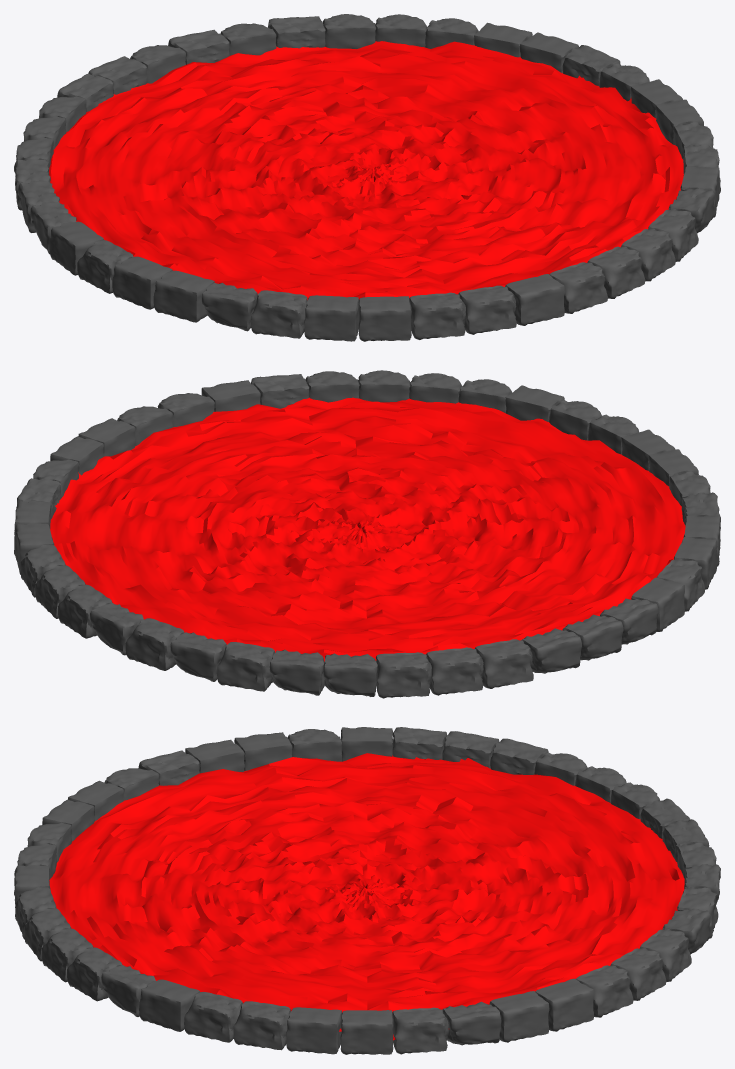
Rendered from portal2.fbx.
The picture shows the model from 3 angles, top to bottom: view 1: azimuth 30°, elevation 25°; view 2: azimuth 150°, elevation 25°; view 3: azimuth 270°, elevation 25°; orthographic projection.
Visible parts, largest first — view 1: Disc, Cube_24, Cube_1_22, Cube_23, Cube_1_25, Cube_1_21, Cube_27, Cube_20, Cube_28, Cube_2_26, Cube_1_19, Cube_1_18 (+29 smaller); view 2: Disc, Cube_1_36, Cube_1_35, Cube_1_39, Cube_1_34, Cube_2_38, Cube_2_37, Cube_1_1, Cube_2_33, Cube_2_0, Cube_2_32, Cube_2_2 (+29 smaller); view 3: Disc, Cube_11, Cube_1_9, Cube_10, Cube_1_12, Cube_7, Cube_1_13, Cube_14, Cube_6, Cube_2_8, Cube_1_5, Cube_1_4 (+29 smaller).
Boxes of the visible parts, x1,y1,x2,y2 form: Disc: [49, 41, 683, 299]; Cube_24: [304, 295, 358, 341]; Cube_1_22: [409, 292, 465, 339]; Cube_23: [358, 296, 411, 341]; Cube_1_25: [251, 290, 307, 338]; Cube_1_21: [458, 285, 516, 334]; Cube_27: [153, 270, 214, 322]; Cube_20: [505, 274, 564, 325]; Cube_28: [112, 256, 172, 309]; Cube_2_26: [201, 282, 257, 331]; Cube_1_19: [549, 262, 607, 313]; Cube_1_18: [587, 246, 645, 298]; Disc: [50, 397, 685, 661]; Cube_1_36: [376, 652, 431, 698]; Cube_1_35: [426, 647, 483, 695]; Cube_1_39: [217, 642, 274, 691]; Cube_1_34: [475, 639, 533, 688]; Cube_2_38: [269, 649, 324, 695]; Cube_2_37: [323, 653, 377, 696]; Cube_1_1: [125, 618, 184, 670]; Cube_2_33: [521, 628, 581, 673]; Cube_2_0: [170, 632, 226, 681]; Cube_2_32: [562, 614, 623, 660]; Cube_2_2: [90, 603, 143, 655]; Disc: [49, 753, 684, 1040]; Cube_11: [286, 1007, 341, 1054]; Cube_1_9: [392, 1007, 448, 1054]; Cube_10: [340, 1010, 393, 1054]; Cube_1_12: [233, 1001, 290, 1050]; Cube_7: [489, 991, 549, 1042]; Cube_1_13: [184, 992, 242, 1042]; Cube_14: [139, 979, 199, 1031]; Cube_6: [535, 978, 594, 1031]; Cube_2_8: [442, 1001, 501, 1045]; Cube_1_5: [576, 965, 633, 1017]; Cube_1_4: [610, 948, 666, 1000].
Bounding box in the file's own units: 211 × 10.82 × 211.
